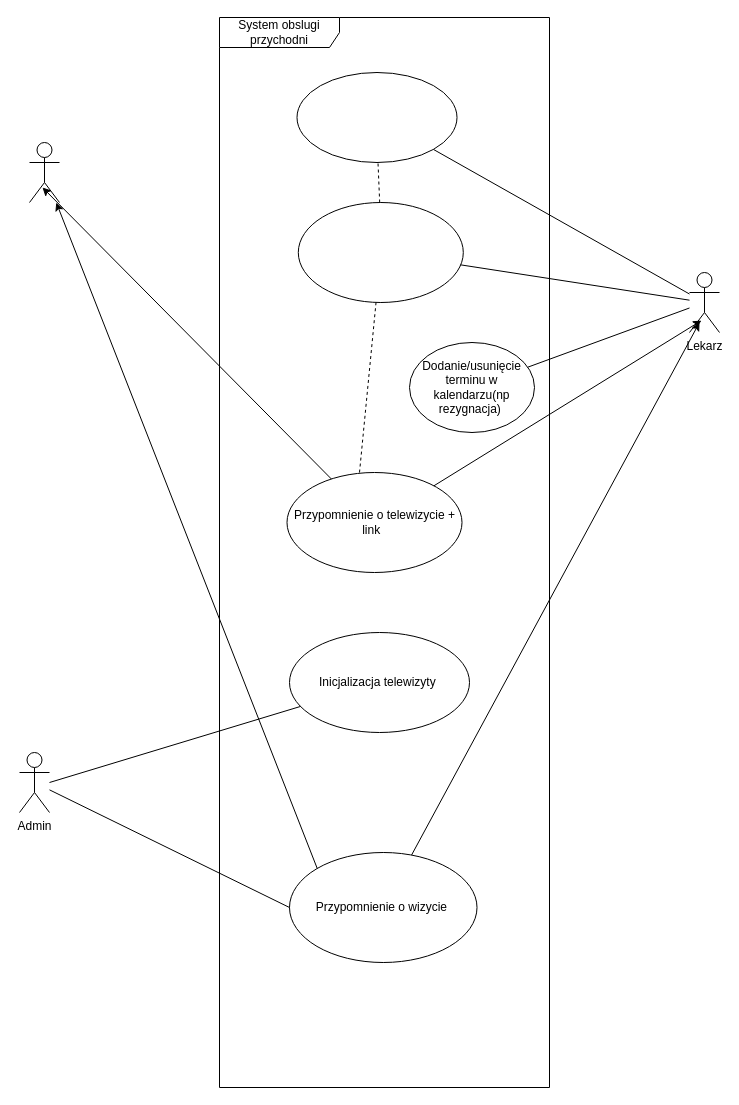
The diagram is 739 pixels wide and 1105 high, and some of its shapes have lost their labels. Here are the shapes that lost their labels. From the top down, the centre of each, then its label:
pixel 376 117: Ustalenie terminu telewizyty
pixel 44 172: Pacjent
pixel 380 252: Zmiana konwencjonalnej wizyty na telewizyte
